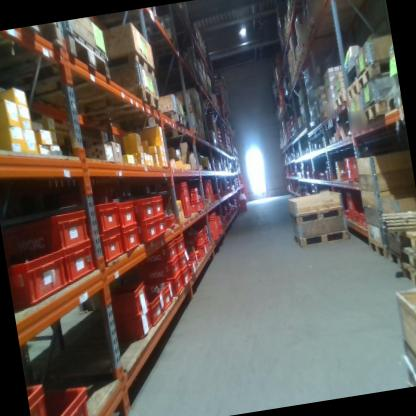pallet: (0, 28, 115, 113), (51, 83, 162, 131), (0, 22, 66, 77), (83, 51, 158, 94), (123, 107, 188, 137), (291, 223, 351, 255), (352, 56, 398, 86), (288, 205, 347, 227), (358, 97, 390, 128), (380, 89, 403, 119), (167, 128, 201, 146), (401, 243, 416, 277), (341, 79, 362, 103), (368, 239, 388, 264), (387, 251, 403, 277), (330, 91, 348, 114), (403, 230, 416, 256), (404, 263, 416, 287), (285, 7, 296, 28), (318, 107, 330, 123), (289, 0, 299, 14), (299, 46, 306, 64), (312, 114, 321, 127), (294, 55, 301, 70)
small_load_carrier: (1, 204, 96, 263), (6, 252, 70, 310), (102, 273, 151, 321), (38, 379, 91, 416), (116, 309, 156, 348), (61, 241, 98, 282), (158, 180, 194, 221), (132, 239, 176, 267), (138, 293, 167, 333), (122, 193, 157, 226), (136, 260, 182, 284), (144, 277, 185, 301), (91, 198, 119, 232), (98, 230, 125, 264), (112, 196, 139, 230), (116, 224, 144, 256), (149, 278, 174, 313), (345, 190, 368, 224), (28, 382, 49, 416), (139, 219, 158, 245), (202, 212, 219, 241), (148, 195, 168, 219), (184, 227, 205, 245), (186, 245, 207, 262), (153, 218, 169, 240), (178, 265, 193, 288), (349, 154, 360, 181), (172, 234, 186, 255), (188, 247, 204, 265), (204, 179, 216, 202), (175, 252, 188, 272), (185, 261, 197, 278), (235, 197, 247, 214), (187, 252, 198, 270), (164, 212, 176, 226), (187, 188, 199, 202), (342, 157, 352, 173), (189, 201, 200, 215), (353, 210, 362, 227), (359, 213, 368, 228), (200, 225, 208, 240), (197, 197, 205, 211), (214, 214, 222, 227), (345, 171, 354, 182), (195, 180, 207, 188), (203, 237, 210, 250), (216, 224, 224, 235), (203, 192, 210, 204), (199, 186, 209, 193), (341, 173, 346, 181)
